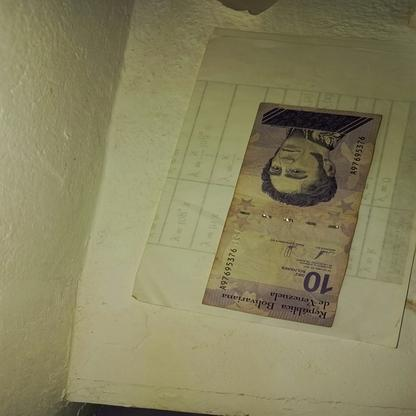ten-front-vef: (200, 100, 382, 329)
